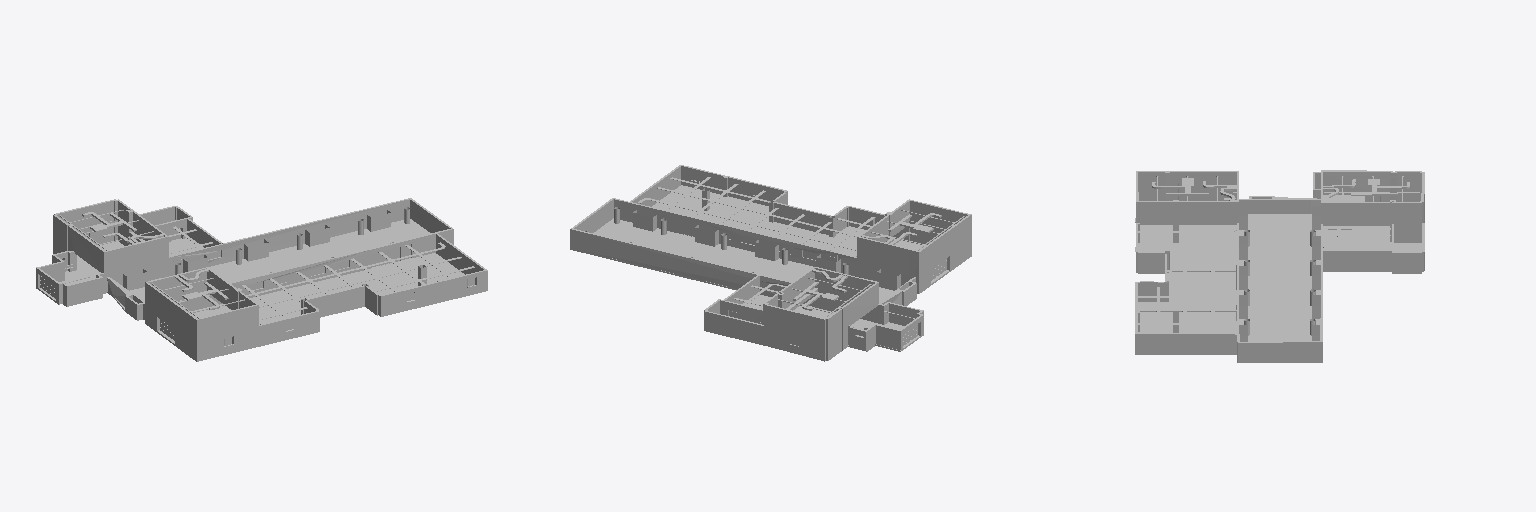
File: iilab_corridor.obj
3 renders of one model, left to right at view 1: azimuth 30°, elevation 25°; view 2: azimuth 150°, elevation 25°; view 3: azimuth 270°, elevation 25°, orthographic.
Parts seen in each view (by area): view 1: Wall1, Floor, Wall3.001, Wall4.001, Cube, CealingFrame, Shafts, Ventilation, Ventilation_001; view 2: Wall1, Floor, Wall3.001, Wall4.001, Cube, CealingFrame, Shafts, Ventilation, Ventilation_001; view 3: Floor, Wall1, Wall3.001, Wall4.001, CealingFrame, Shafts, Cube, Ventilation_001, Ventilation.
Part boxes in pixels (left/top/right/bottom): Wall1: left=53, top=198, right=453, bottom=297; Floor: left=36, top=219, right=487, bottom=361; Wall3.001: left=145, top=267, right=260, bottom=359; Wall4.001: left=261, top=233, right=487, bottom=344; Cube: left=36, top=251, right=144, bottom=318; CealingFrame: left=175, top=242, right=474, bottom=324; Shafts: left=123, top=210, right=390, bottom=290; Ventilation: left=82, top=212, right=163, bottom=244; Ventilation_001: left=175, top=269, right=228, bottom=309; Wall1: left=570, top=198, right=878, bottom=359; Floor: left=570, top=185, right=971, bottom=361; Wall3.001: left=857, top=199, right=971, bottom=292; Wall4.001: left=630, top=165, right=903, bottom=237; Cube: left=848, top=277, right=923, bottom=350; CealingFrame: left=638, top=177, right=875, bottom=256; Shafts: left=633, top=210, right=900, bottom=290; Ventilation: left=793, top=269, right=847, bottom=310; Ventilation_001: left=861, top=213, right=941, bottom=244; Floor: left=1135, top=195, right=1421, bottom=362; Wall1: left=1236, top=171, right=1424, bottom=361; Wall3.001: left=1136, top=171, right=1238, bottom=242; Wall4.001: left=1135, top=224, right=1236, bottom=353; CealingFrame: left=1138, top=198, right=1236, bottom=332; Shafts: left=1239, top=206, right=1320, bottom=341; Cube: left=1239, top=170, right=1380, bottom=213; Ventilation_001: left=1152, top=178, right=1236, bottom=200; Ventilation: left=1323, top=179, right=1410, bottom=201.
Bounding box in the file's own units: 69.77 × 7.98 × 49.64.